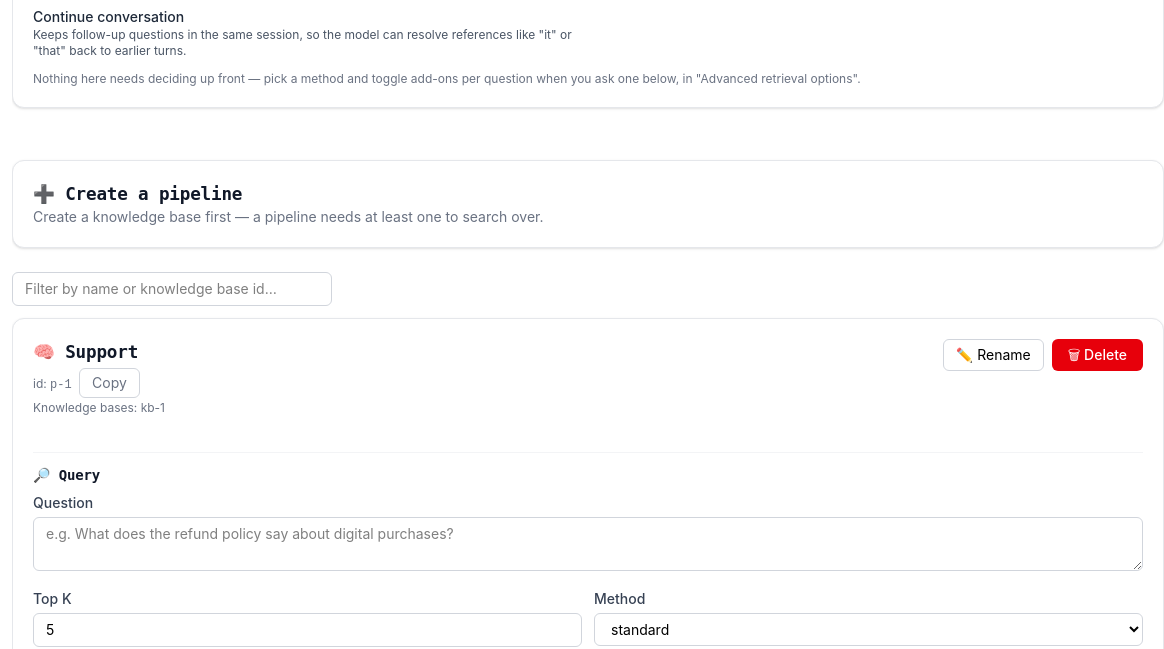
Test case: RagPipelinesPage › shows a no-match empty state when the filter matches nothing
(page scrolled)
Expected: the heading "🧠 Support" is shown, [33,342,138,362]
Type "nope" into the field named "Filter pipelines" at (172, 289), box [12,272,332,306]
(page scrolled)
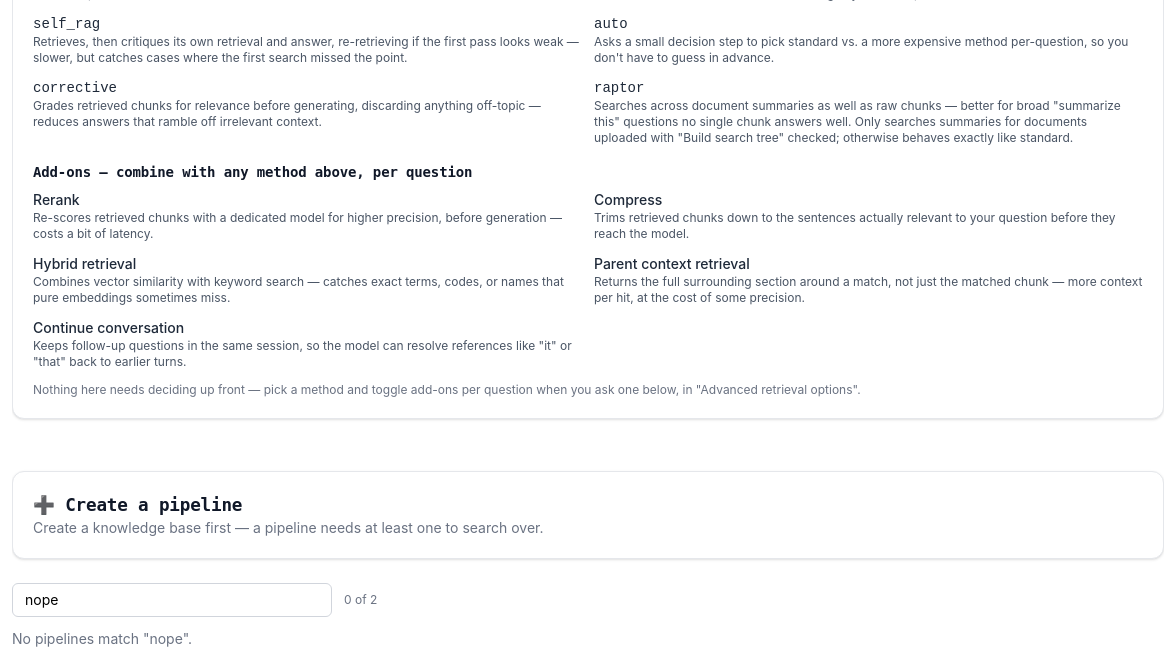
Now the text "No pipelines match \"nope\"." is shown, box [12,630,192,647]
